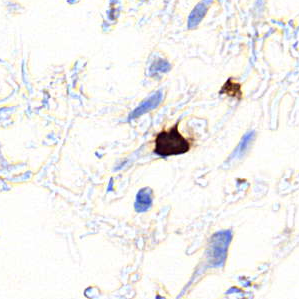Lymphocyte: (147, 124, 194, 159)
